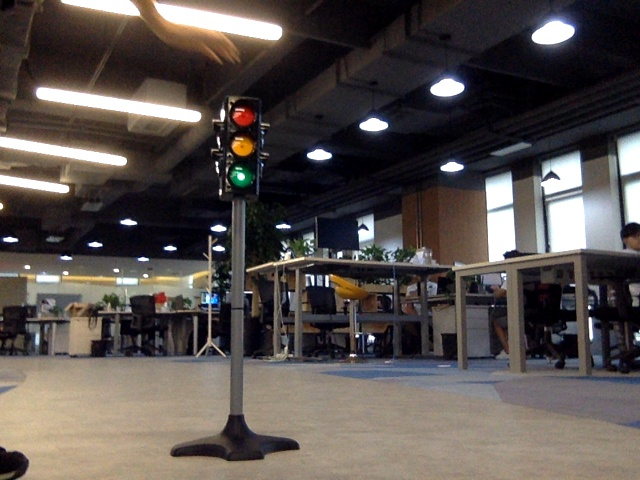green: (225, 102, 257, 195)
